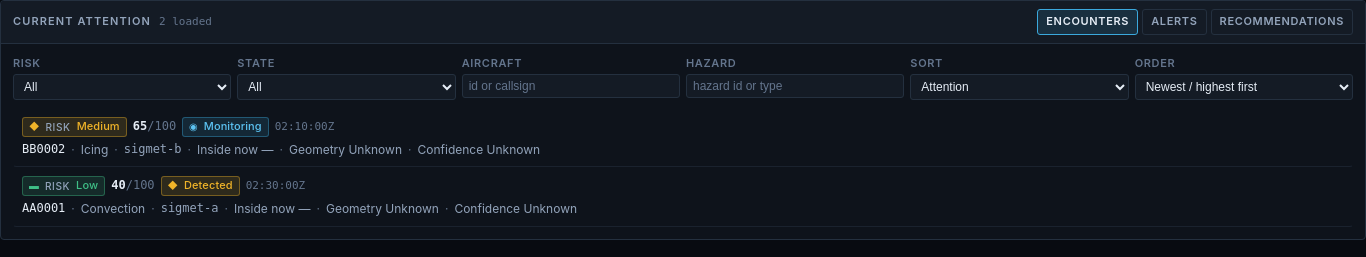
Test: OperationalWorklist › filters loaded encounters by stored risk level
This screenshot has width=1366, height=257.
Check: the text "AA0001" is shown, box [22,200,65,218]
Select "Medium" in the dropdown labelled "Risk" at (122, 87), box [13,74,231,100]
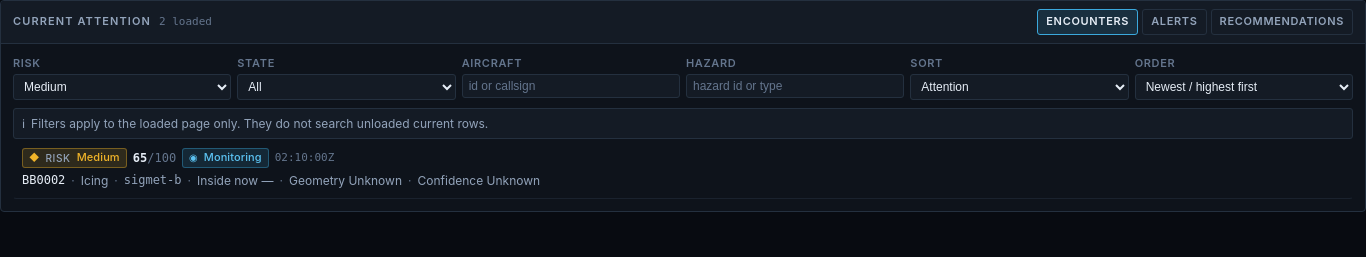
Check: the text "BB0002" is shown, box [22,172,65,190]
Check: the button "AA0001" is gone
